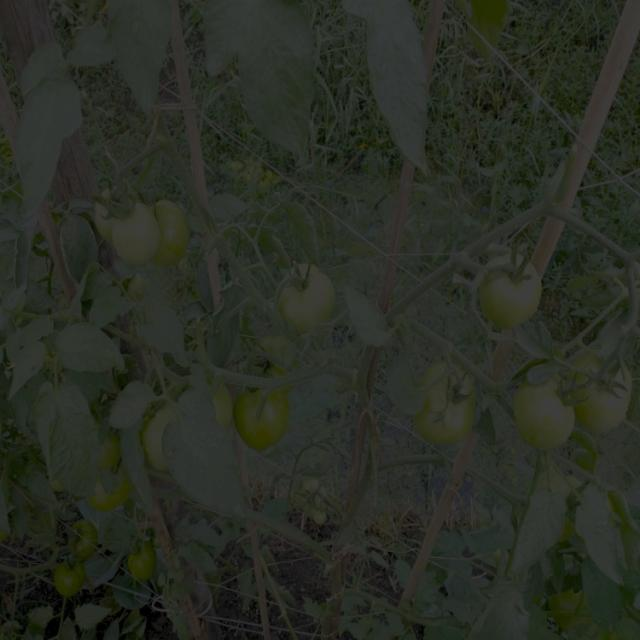tomato: (477, 249, 547, 332), (426, 357, 492, 440), (573, 343, 636, 428), (513, 377, 576, 450), (274, 268, 339, 338), (235, 382, 295, 448), (117, 198, 158, 265), (155, 201, 193, 266), (145, 410, 176, 474), (127, 544, 162, 585), (90, 485, 137, 515), (52, 565, 90, 601), (95, 198, 123, 237), (98, 433, 126, 469), (73, 524, 99, 556)
